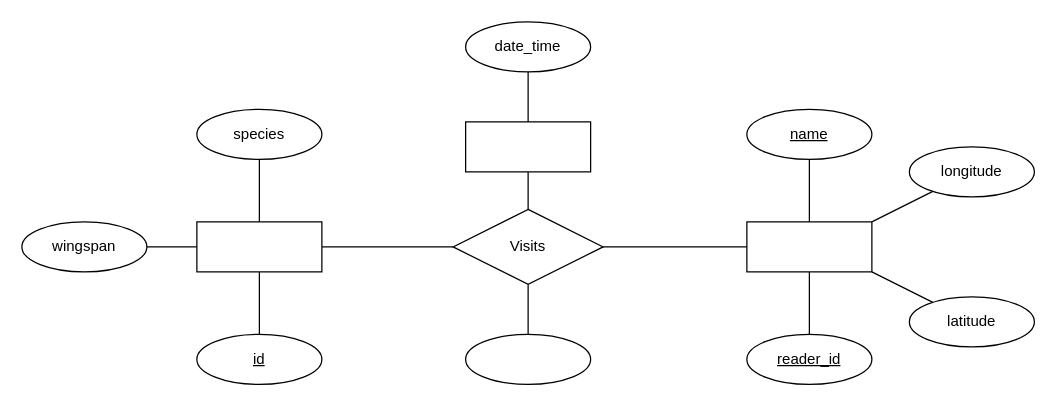
Some shapes in this 1056 by 406 pixel diagram are drawn without their labels. Here are the shapes that lost their labels. From the top down, the centre of each, then its label:
At pixel 527 146: "Time".
At pixel 259 246: "Bird".
At pixel 809 246: "Feeder".
At pixel 527 358: "duration".
